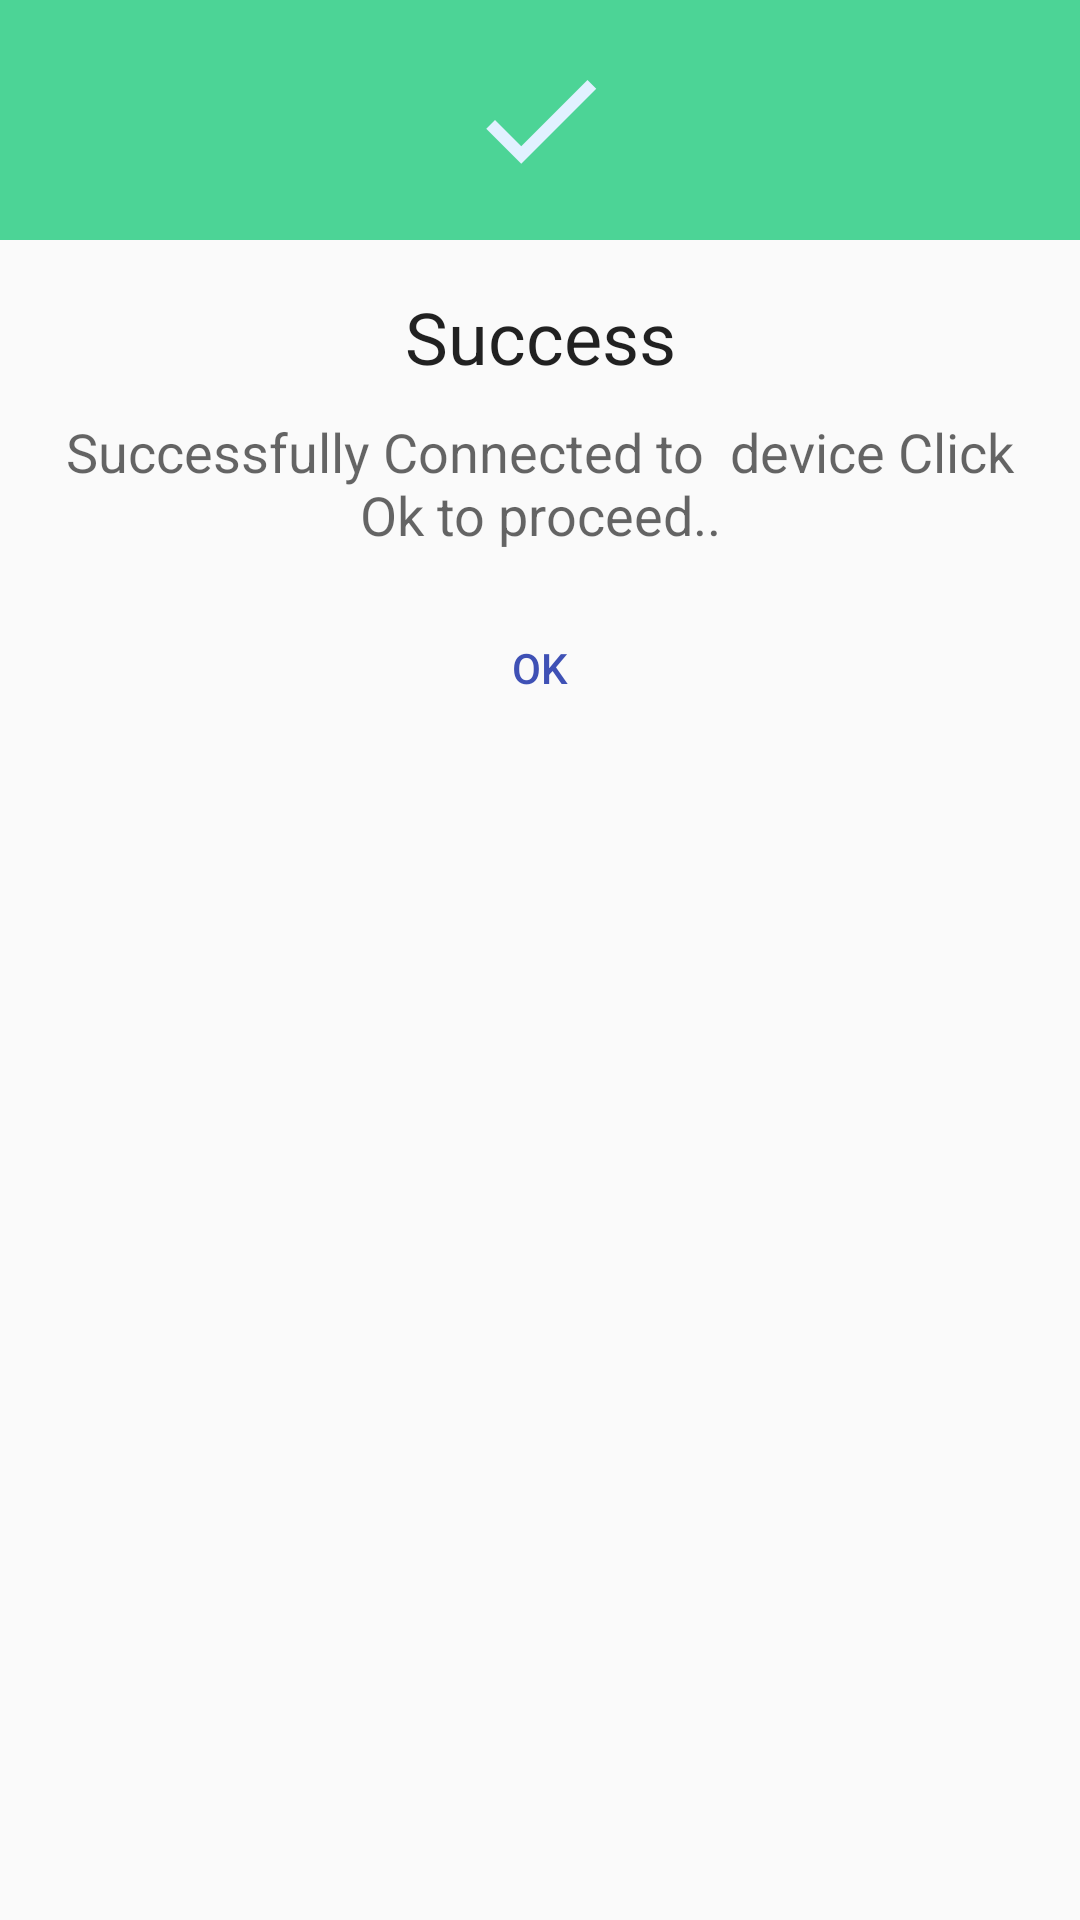

Point at icon controls on the screen. Image size 1080*1920, points as point (x, y).
coreect: point (541, 122)
